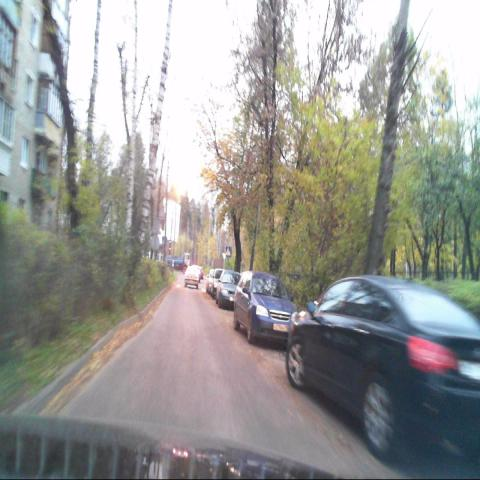5_19_1: (226, 246, 231, 258)
